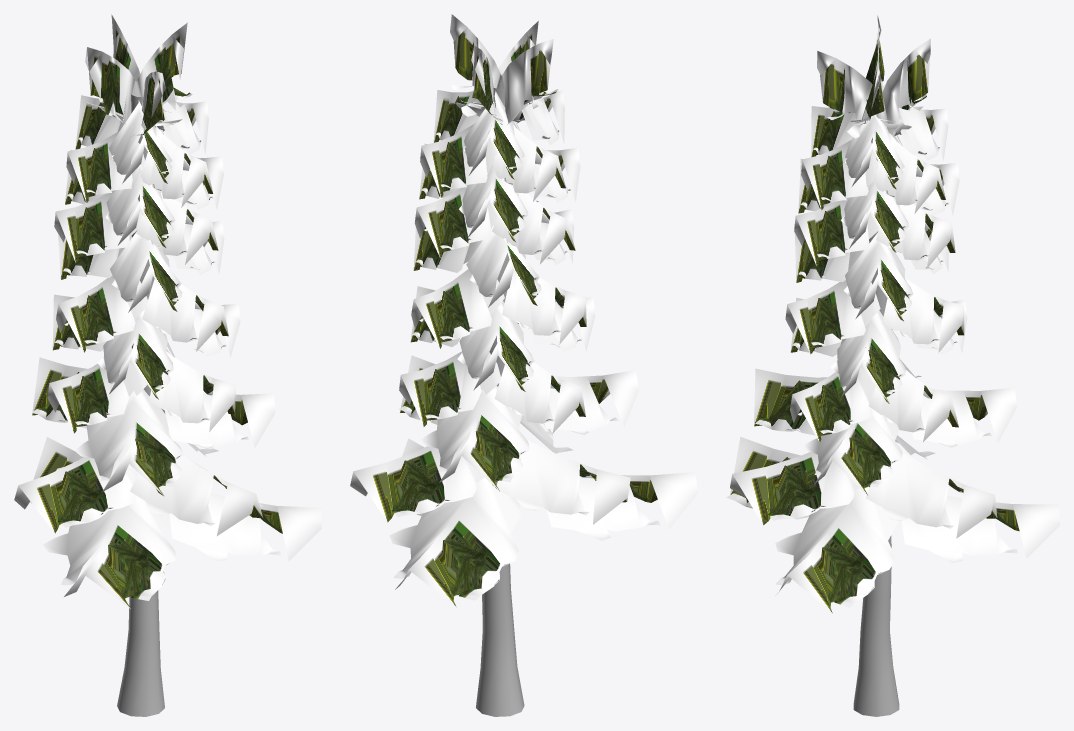
Rendered from Tree.fbx.
3 renders of one model, left to right at view 1: azimuth 30°, elevation 25°; view 2: azimuth 150°, elevation 25°; view 3: azimuth 270°, elevation 25°, orthographic. The views are drawn at different scales.
Parts seen in each view (by area): view 1: Tree; view 2: Tree; view 3: Tree.
Part boxes in pixels (x1,y1,x2,y2): Tree: (14,14,321,716); Tree: (350,14,697,716); Tree: (726,15,1059,716).
Size of the model in its own units: 100 by 243 by 110.
